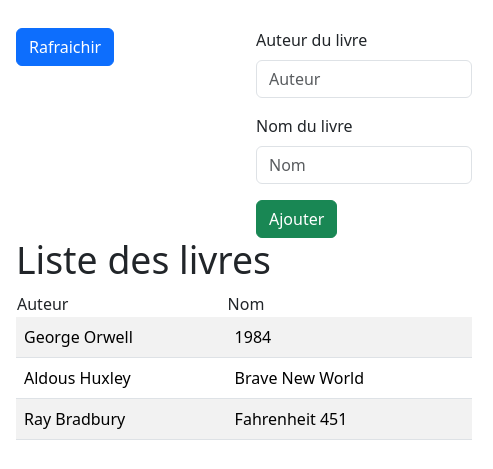
Scenario: Book Add Test › Should display error name message
The width and height of the screenshot is (493, 469).
In the field with test id "book-add-author-field": (364, 79) top-left (256, 60), bottom-right (472, 98), type "Julien Neel"
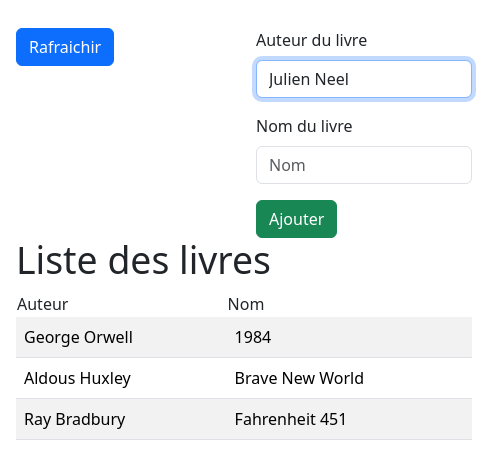
Click the button with test id "book-add-submit-button": (297, 219) top-left (256, 200), bottom-right (337, 238)
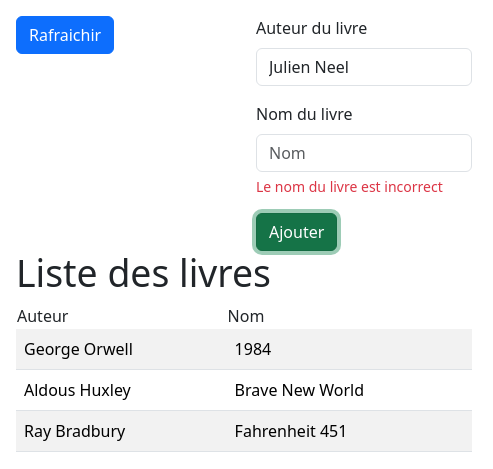
Expected: the text "Le nom du livre est incorrect" is shown, top-left (256, 176), bottom-right (472, 197)
